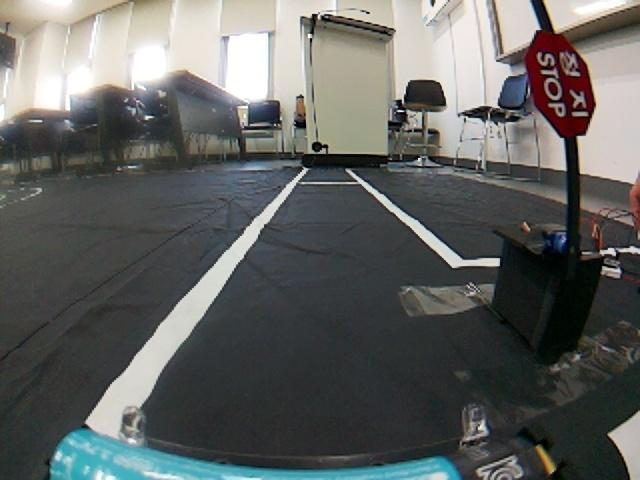sign_stop: (526, 31, 596, 140)
straight: (5, 159, 640, 476)
